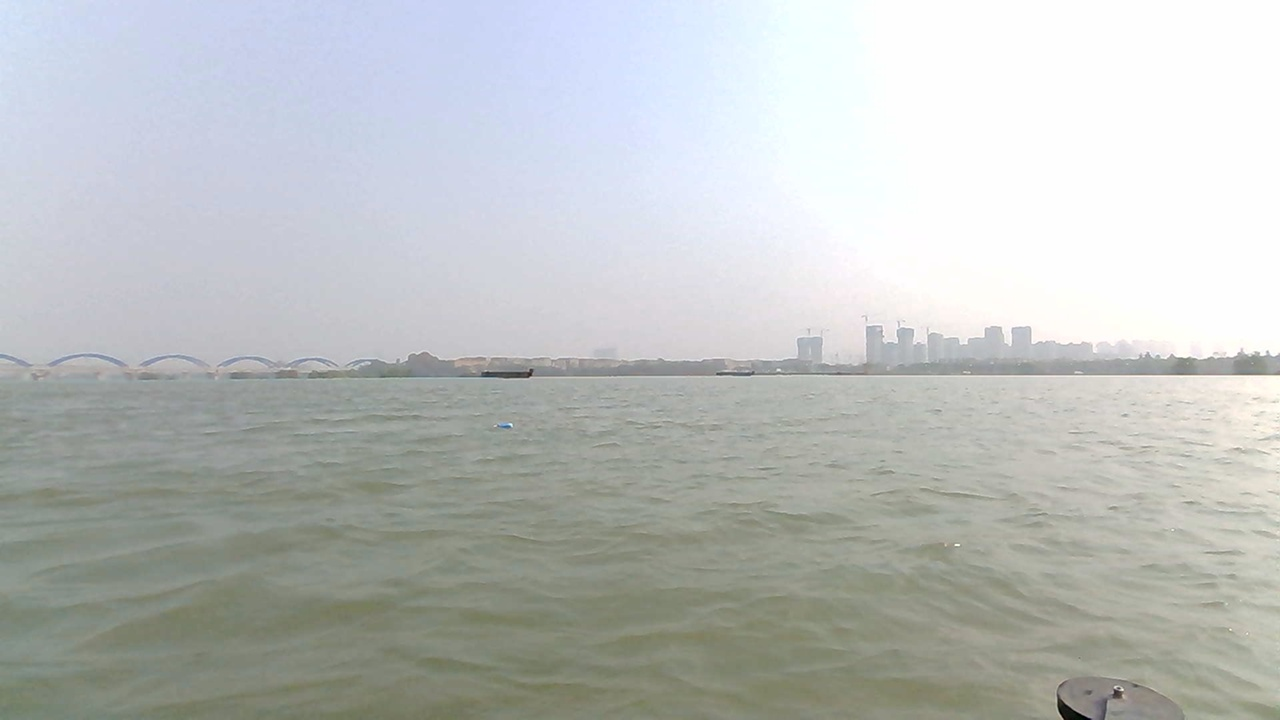bottle: (492, 420, 521, 434)
